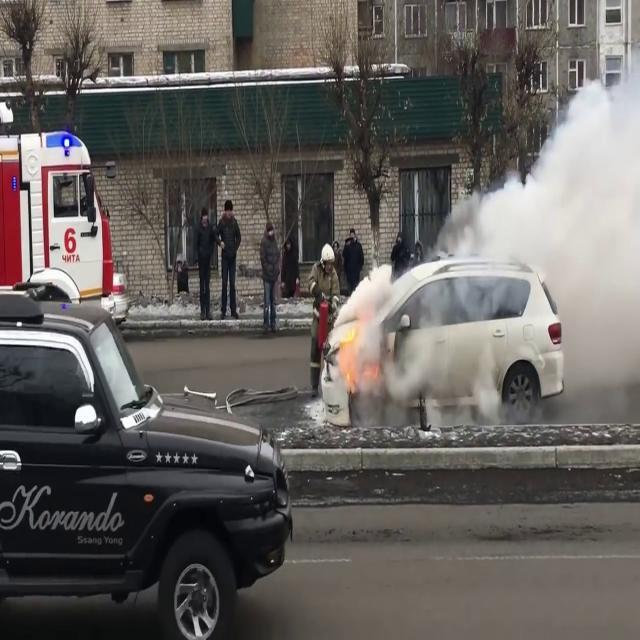Fire: (332, 308, 369, 398)
Smoke: (376, 30, 640, 444)
